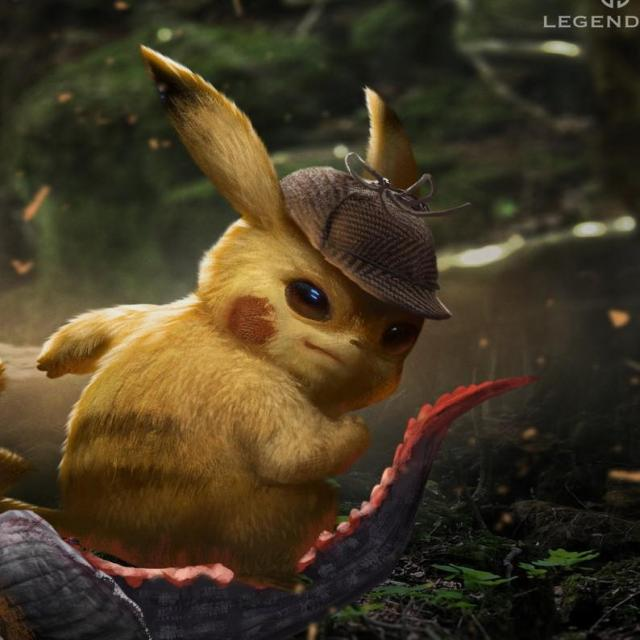pikachu: (39, 45, 425, 594)
